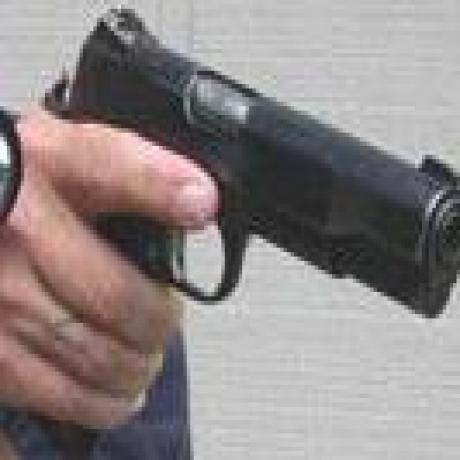weapon: (49, 2, 460, 315)
